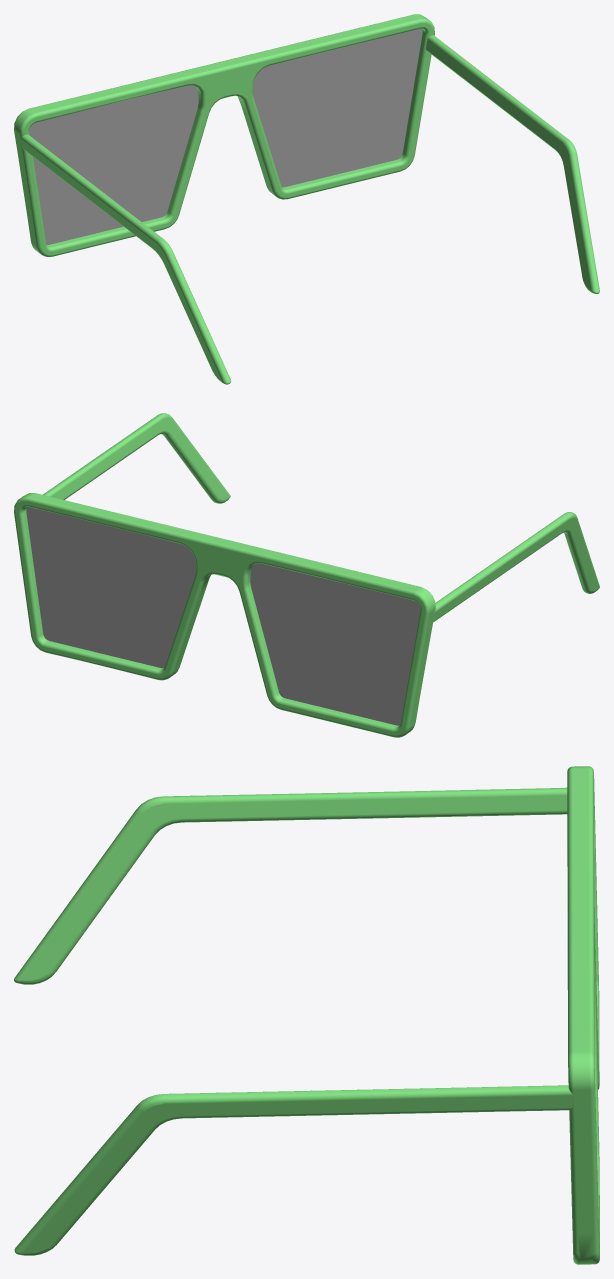
The picture shows the model from 3 angles, top to bottom: view 1: azimuth 30°, elevation 25°; view 2: azimuth 150°, elevation 25°; view 3: azimuth 270°, elevation 25°; orthographic projection. The views are drawn at different scales.
Visible parts, largest first — view 1: uploads_files_593613_gözlük:object_3, uploads_files_593613_gözlük:object_6, uploads_files_593613_gözlük:object_1, uploads_files_593613_gözlük:object_5, uploads_files_593613_gözlük:object_4; view 2: uploads_files_593613_gözlük:object_1, uploads_files_593613_gözlük:object_3, uploads_files_593613_gözlük:object_6, uploads_files_593613_gözlük:object_5, uploads_files_593613_gözlük:object_4; view 3: uploads_files_593613_gözlük:object_4, uploads_files_593613_gözlük:object_5, uploads_files_593613_gözlük:object_6.
Boxes of the visible parts, left/top/right/bottom form: uploads_files_593613_gözlük:object_3: left=253, top=28, right=422, bottom=187; uploads_files_593613_gözlük:object_6: left=14, top=14, right=434, bottom=256; uploads_files_593613_gözlük:object_1: left=29, top=85, right=198, bottom=244; uploads_files_593613_gözlük:object_5: left=426, top=35, right=599, bottom=293; uploads_files_593613_gözlük:object_4: left=20, top=134, right=231, bottom=384; uploads_files_593613_gözlük:object_1: left=250, top=563, right=420, bottom=725; uploads_files_593613_gözlük:object_3: left=26, top=507, right=195, bottom=668; uploads_files_593613_gözlük:object_6: left=14, top=493, right=435, bottom=737; uploads_files_593613_gözlük:object_5: left=43, top=413, right=230, bottom=503; uploads_files_593613_gözlük:object_4: left=433, top=512, right=599, bottom=621; uploads_files_593613_gözlük:object_4: left=14, top=787, right=567, bottom=984; uploads_files_593613_gözlük:object_5: left=14, top=1085, right=573, bottom=1255; uploads_files_593613_gözlük:object_6: left=567, top=766, right=599, bottom=1264.
Size of the model in its own units: 13.12 by 4.52 by 10.67.
